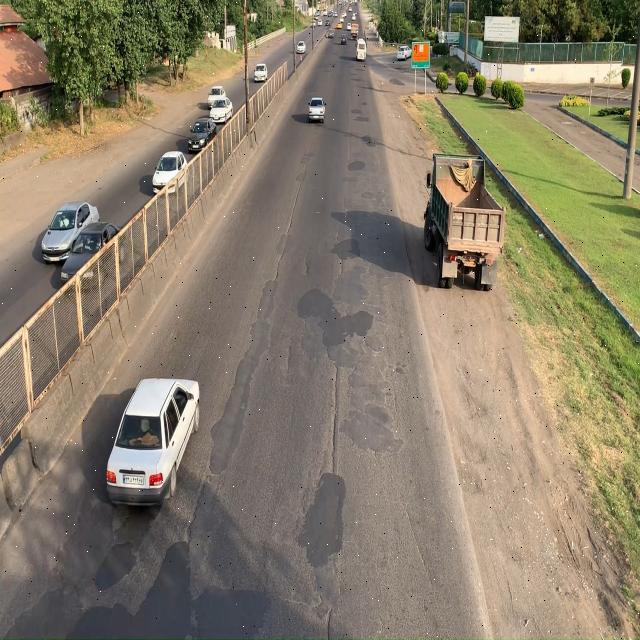Truck: (424, 156, 508, 298)
cars: (107, 376, 201, 504), (60, 222, 126, 296), (43, 202, 100, 264), (152, 149, 188, 197), (185, 116, 217, 158)
